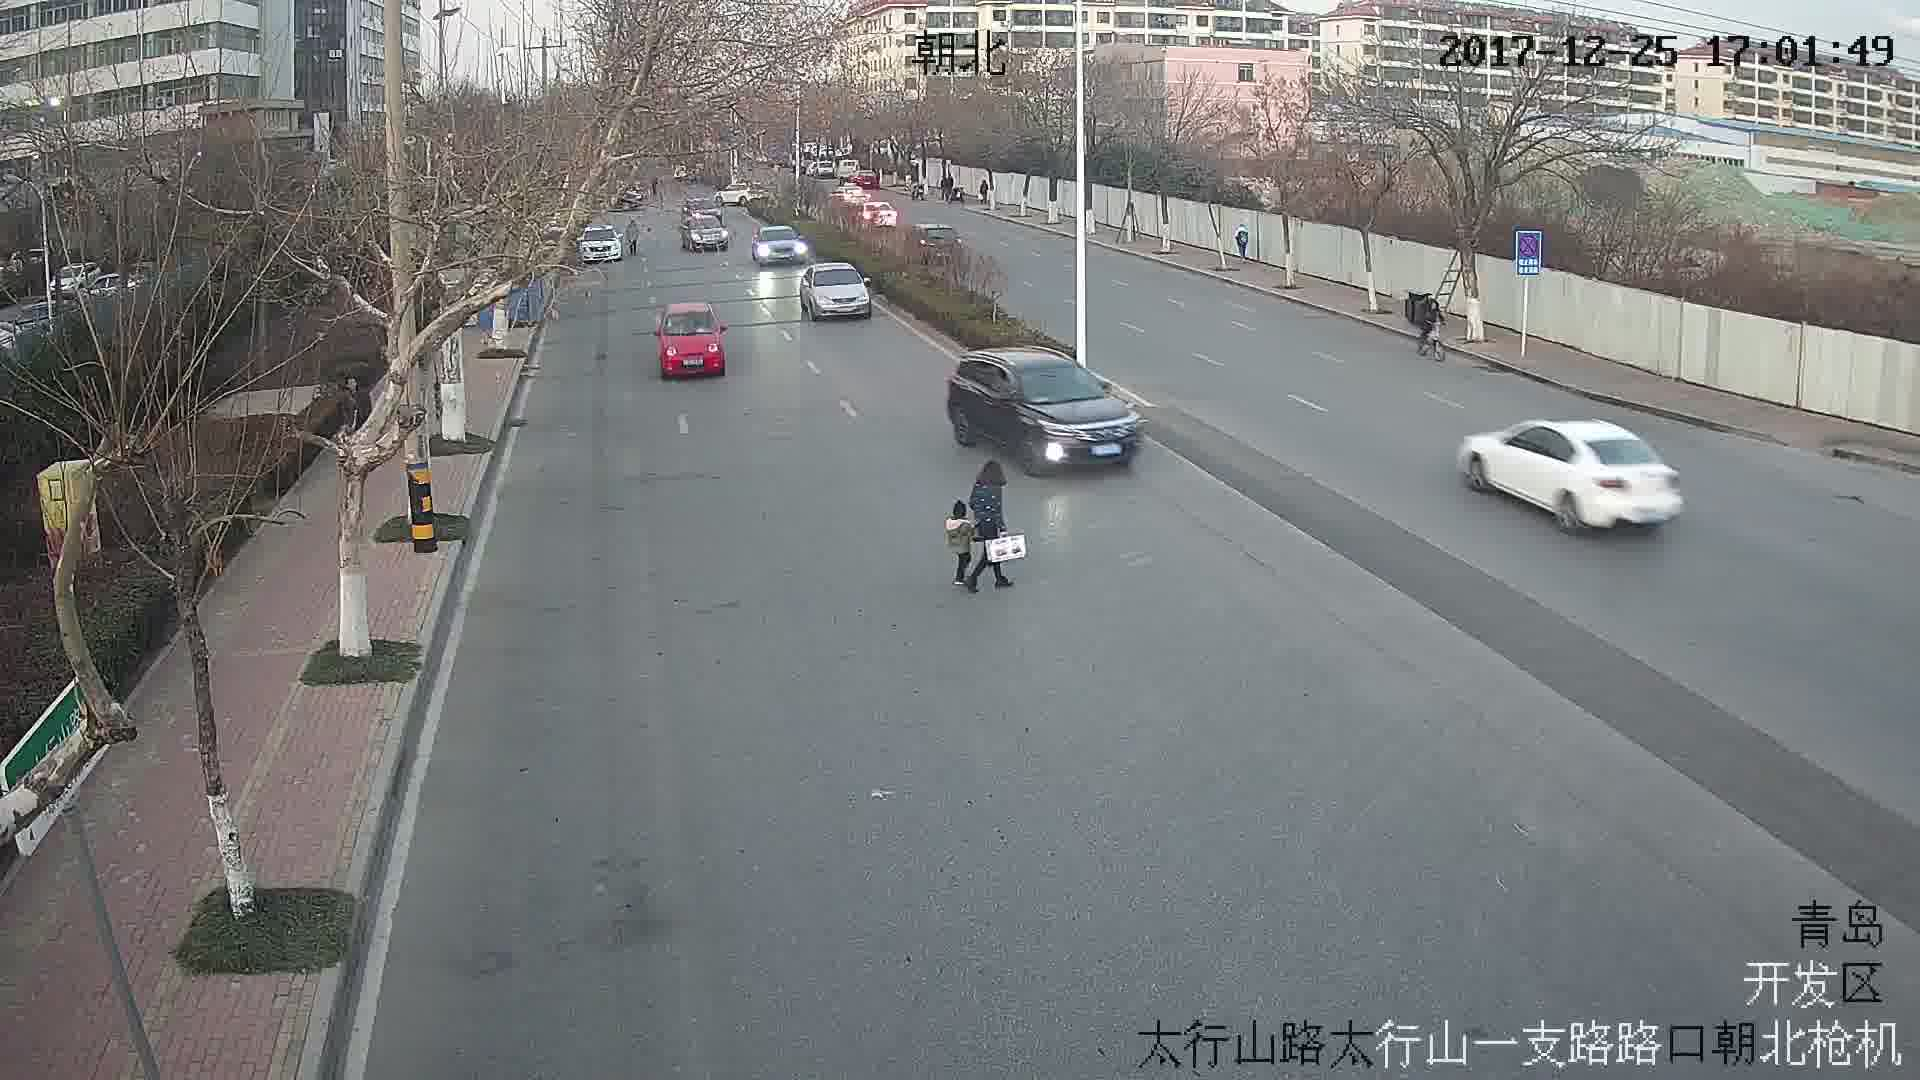car: (1453, 420, 1678, 537), (948, 342, 1143, 473), (656, 303, 725, 381), (796, 266, 871, 316), (755, 227, 810, 266), (689, 214, 730, 255), (581, 227, 618, 266)
person: (971, 467, 1017, 591), (943, 503, 970, 588), (1423, 306, 1450, 363), (1232, 221, 1253, 262)
